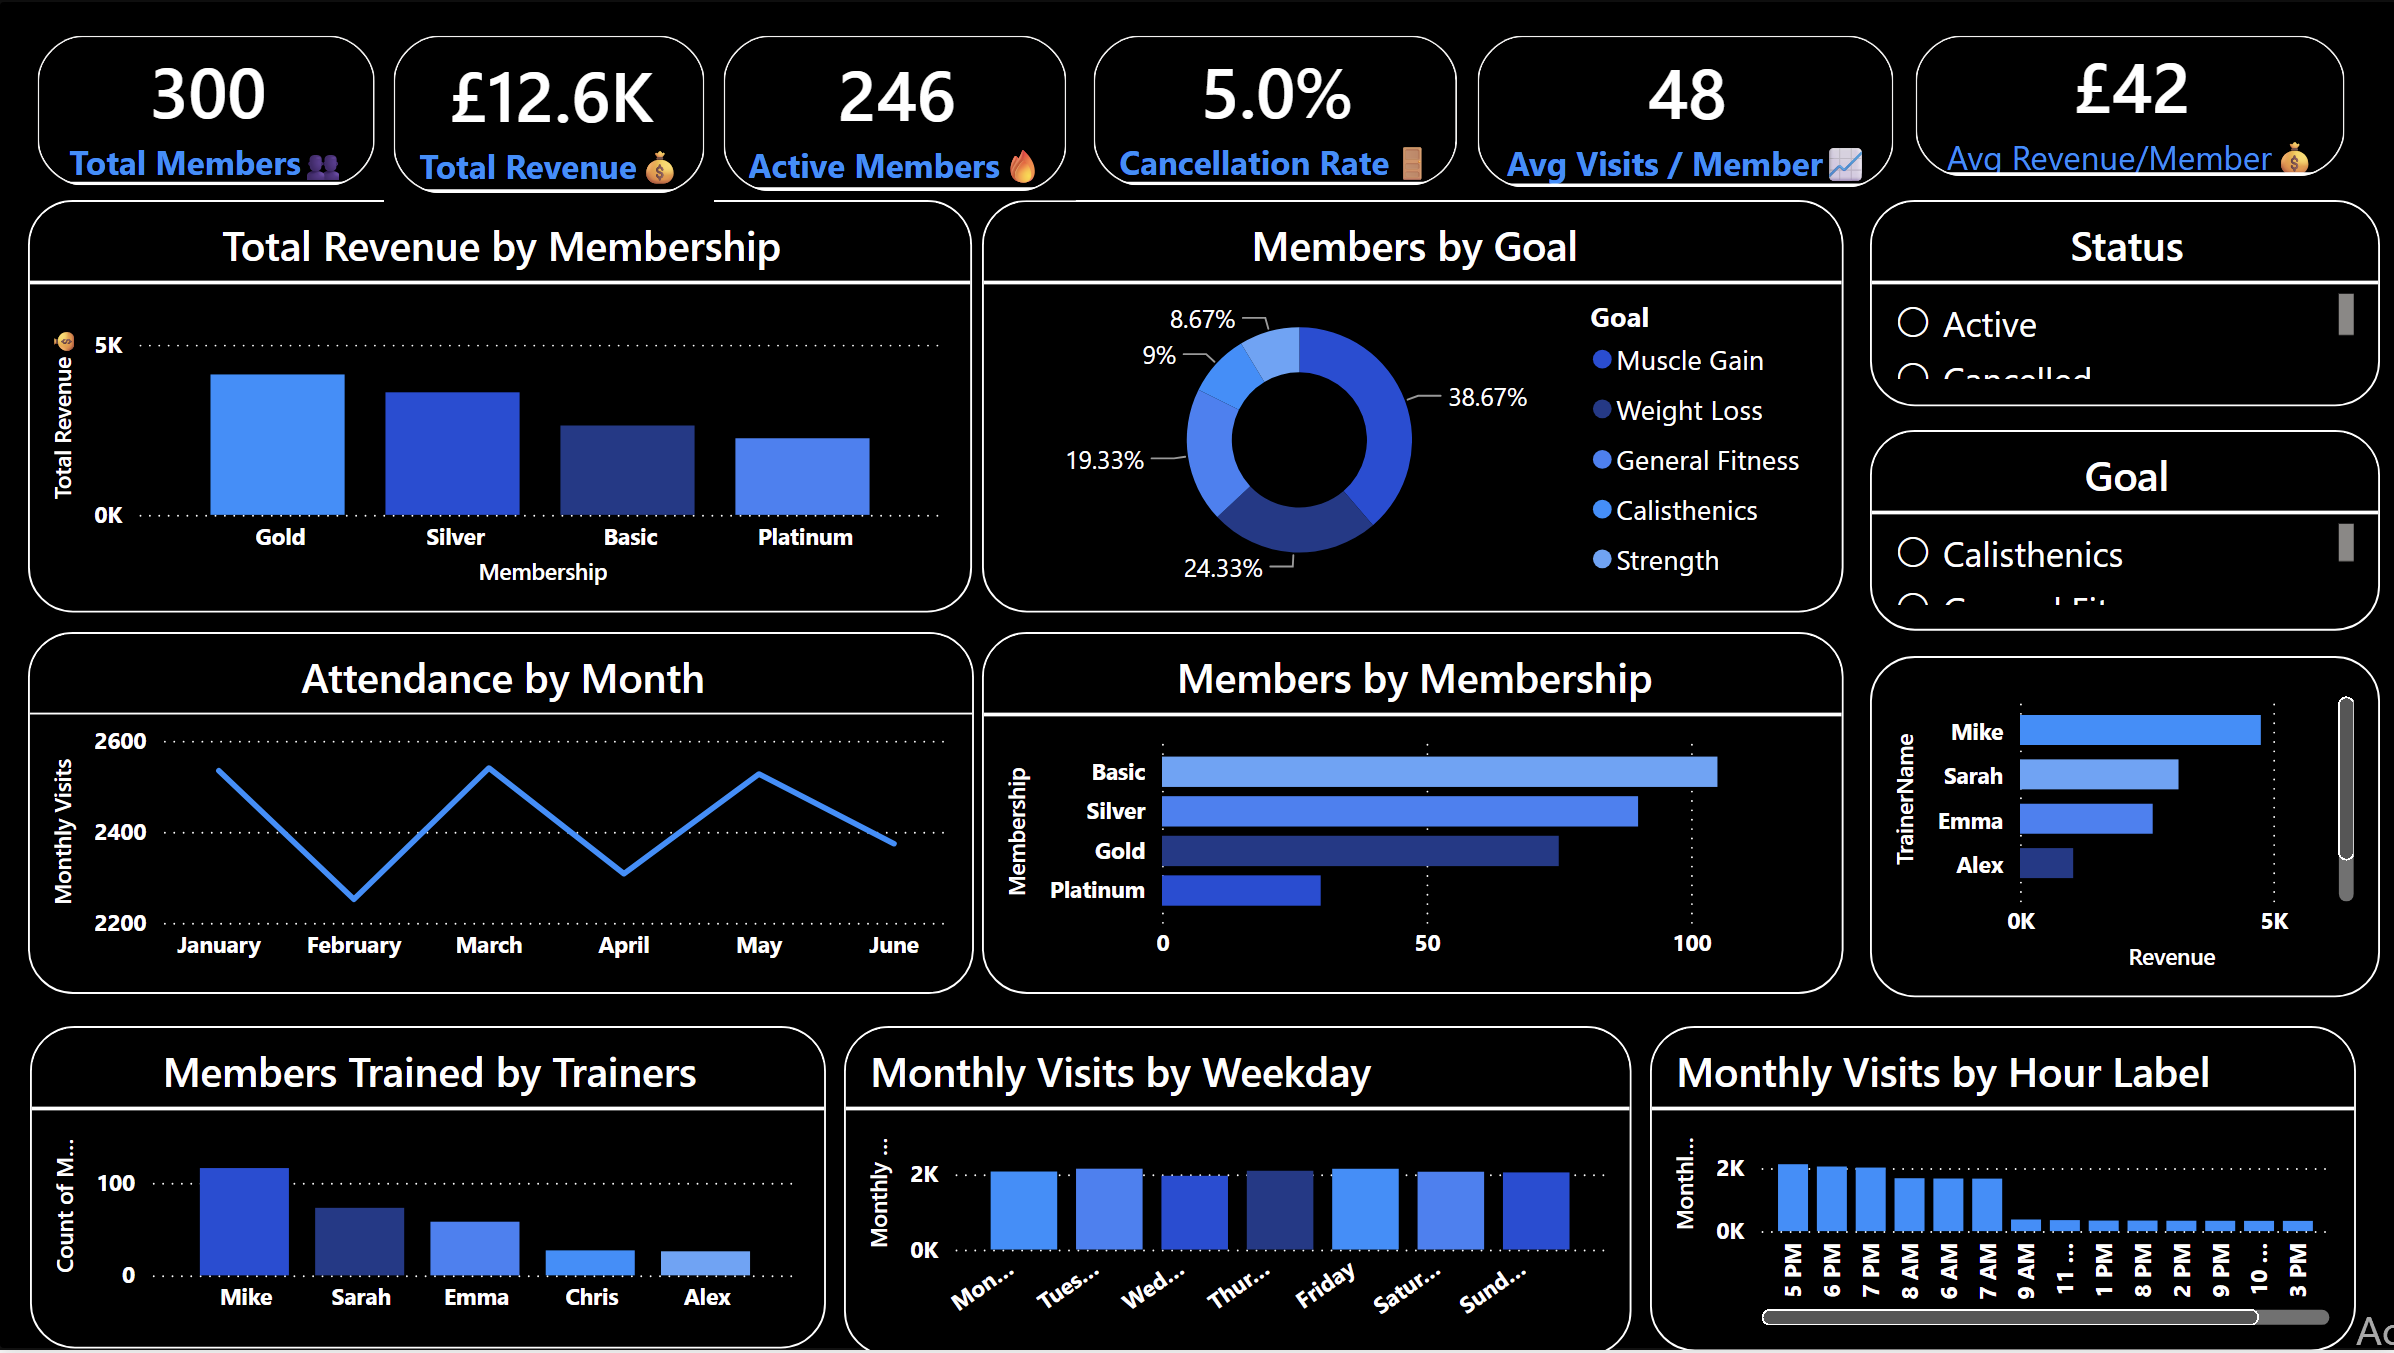

This screenshot's page, from the dashboard's own definition file:
{"tool":"powerbi","page":{"name":"Page 1","canvas":[1280,720],"ordinal":0},"visuals":[{"type":"donutChart","title":"Members by Goal","fields":{"Category":["Members.Goal"],"Y":["CountNonNull(Members.MemberID)"]},"box":[524.4,107.1,459.6,219.9],"z":0},{"type":"clusteredBarChart","title":"Members by Membership","fields":{"Category":["Members.Membership"],"Y":["CountNonNull(Members.MemberID)"]},"box":[524.4,336.9,459.6,193.1],"z":1000},{"type":"lineChart","title":"Attendance by Month","fields":{"Y":["Attendance1.Monthly Visits"],"Category":["Attendance1.Date.Variation.Date Hierarchy.Month"]},"box":[15.5,336.9,504.7,193.1],"z":2000},{"type":"clusteredColumnChart","title":"Members Trained by Trainers","fields":{"Category":["Trainers.TrainerName"],"Y":["CountNonNull(Members.MemberID)"]},"box":[16.9,547,424.3,172],"z":3000},{"type":"listSlicer","fields":{"Values":["Members.Status"]},"box":[998.1,107.1,259.4,110],"z":4000},{"type":"listSlicer","fields":{"Values":["Membership plan.Membership"]},"box":[176.2,201.6,205.8,101.5],"z":5000},{"type":"listSlicer","fields":{"Values":["Members.Goal"]},"box":[998.1,229.8,258,107.1],"z":6000},{"type":"tableEx","fields":{"Values":["Trainers.TrainerName","Trainers.TrainerID"]},"box":[998.1,349.6,259.4,181.9],"z":7000},{"type":"cardVisual","fields":{"Data":["Members.Total Visits"]},"box":[221.3,15.5,183.3,87.4],"z":8000},{"type":"cardVisual","fields":{"Data":["Members.Active Members"]},"box":[418.7,16.9,200.2,86],"z":9000},{"type":"cardVisual","fields":{"Data":["Members.Cancellation Rate"]},"box":[821.9,14.1,210,88.8],"z":10000},{"type":"cardVisual","fields":{"Data":["Members.Total Members"]},"box":[15.5,15.5,190.3,87.4],"z":11000},{"type":"clusteredColumnChart","title":"Total Revenue by Membership","fields":{"Category":["Members.Membership"],"Y":["Members.Total Revenue"]},"box":[15.5,107.1,503.3,219.9],"z":12000},{"type":"clusteredColumnChart","fields":{"Category":["Attendance1.Weekday"],"Y":["Attendance1.Monthly Visits"]},"box":[455.3,548.4,415.9,172],"z":13000},{"type":"clusteredColumnChart","fields":{"Category":["Attendance1.Hour"],"Y":["Attendance1.Monthly Visits"]},"box":[881.1,547,376.4,173.4],"z":13001},{"type":"cardVisual","fields":{"Data":["Members.Total Revenue"]},"box":[628.7,15.5,180.4,87.4],"z":13002},{"type":"cardVisual","fields":{"Data":["Members.Avg Visits / Member📈"]},"box":[1050.2,15.5,231.2,87.4],"z":13003}]}

Visuals, with their boxes in screenshot pixels (x1, y1, x2, y2), scaled from the page's 1280x720 canvas onto the 2394x1353 screenshot:
"Members by Goal" donutChart: bbox=[981, 201, 1840, 614]
"Members by Membership" clusteredBarChart: bbox=[981, 633, 1840, 996]
"Attendance by Month" lineChart: bbox=[29, 633, 973, 996]
"Members Trained by Trainers" clusteredColumnChart: bbox=[32, 1028, 825, 1351]
listSlicer - Members.Status: bbox=[1867, 201, 2352, 408]
listSlicer - Membership plan.Membership: bbox=[330, 379, 714, 570]
listSlicer - Members.Goal: bbox=[1867, 432, 2349, 633]
tableEx - Trainers.TrainerName x Trainers.TrainerID: bbox=[1867, 657, 2352, 999]
cardVisual - Members.Total Visits: bbox=[414, 29, 757, 193]
cardVisual - Members.Active Members: bbox=[783, 32, 1158, 193]
cardVisual - Members.Cancellation Rate: bbox=[1537, 26, 1930, 193]
cardVisual - Members.Total Members: bbox=[29, 29, 385, 193]
"Total Revenue by Membership" clusteredColumnChart: bbox=[29, 201, 970, 614]
clusteredColumnChart - Attendance1.Weekday x Attendance1.Monthly Visits: bbox=[852, 1031, 1629, 1352]
clusteredColumnChart - Attendance1.Hour x Attendance1.Monthly Visits: bbox=[1648, 1028, 2352, 1352]
cardVisual - Members.Total Revenue: bbox=[1176, 29, 1513, 193]
cardVisual - Members.Avg Visits / Member📈: bbox=[1964, 29, 2393, 193]
